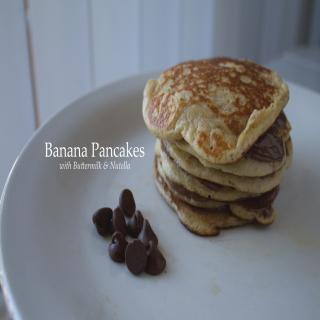Pancake: (150, 110, 294, 238), (141, 55, 289, 160)
